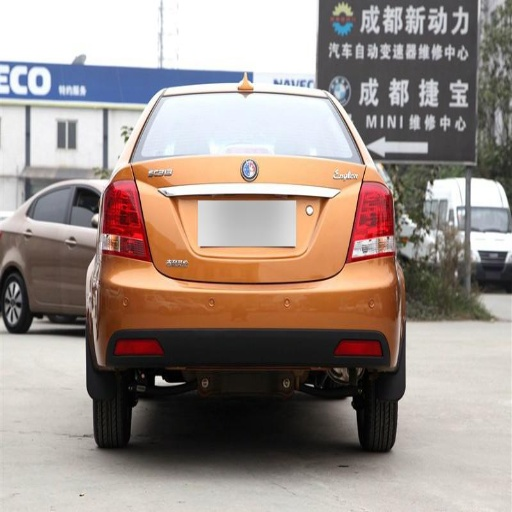back_bumper: (85, 238, 395, 394)
back_left_light: (95, 168, 151, 257)
back_right_door: (22, 191, 67, 302)
